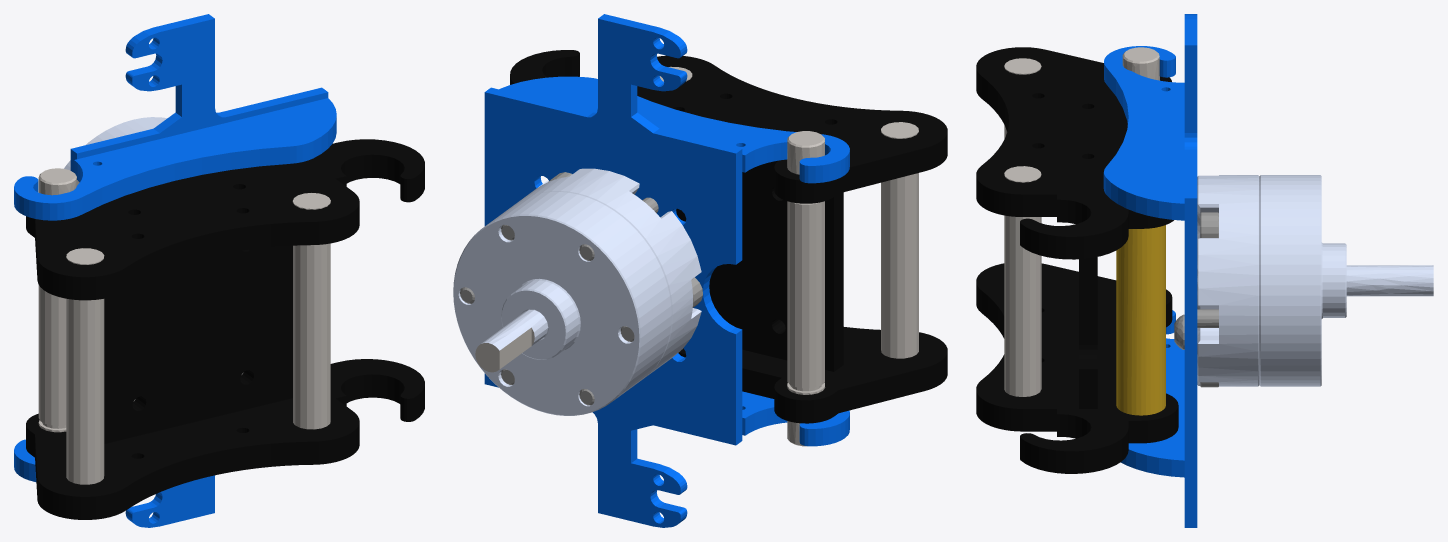
Rendered from tool_body_Mesh.obj.
The picture shows the model from 3 angles, left to right: view 1: azimuth 30°, elevation 25°; view 2: azimuth 150°, elevation 25°; view 3: azimuth 270°, elevation 25°; orthographic projection. The views are drawn at different scales.
Size of the model in its own units: 0.0721 by 0.0855 by 0.0735.
